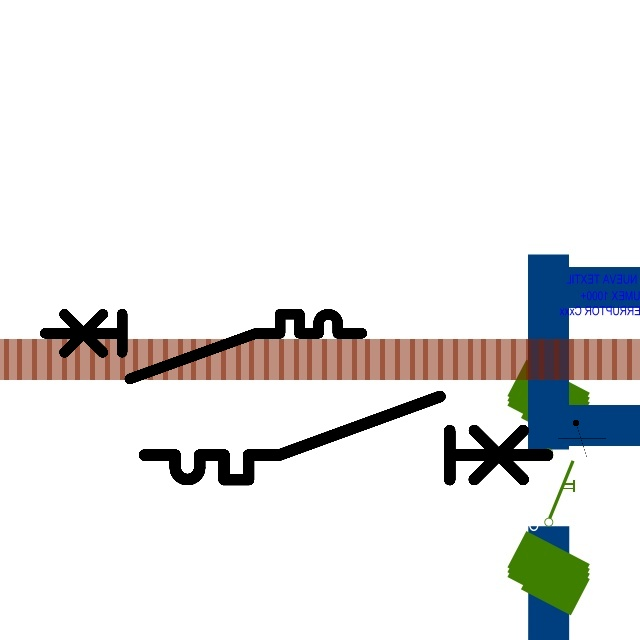interruptor_termomagnetico: (134, 386, 557, 490), (37, 306, 370, 387)
